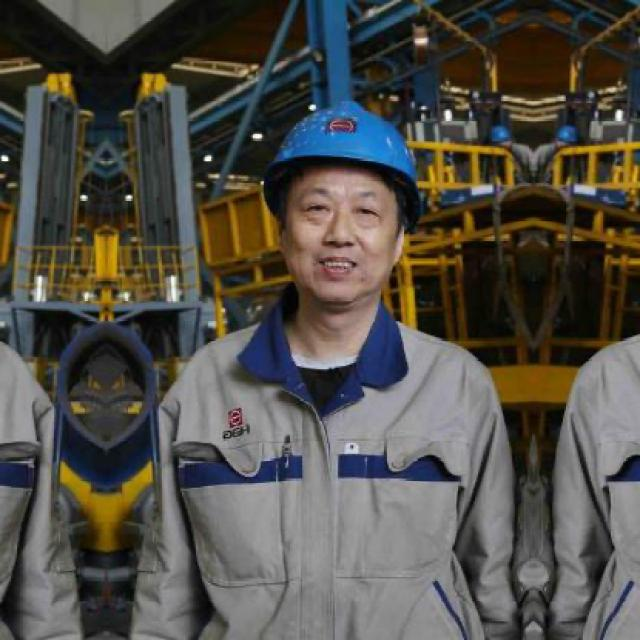con casco: (255, 112, 437, 250)
